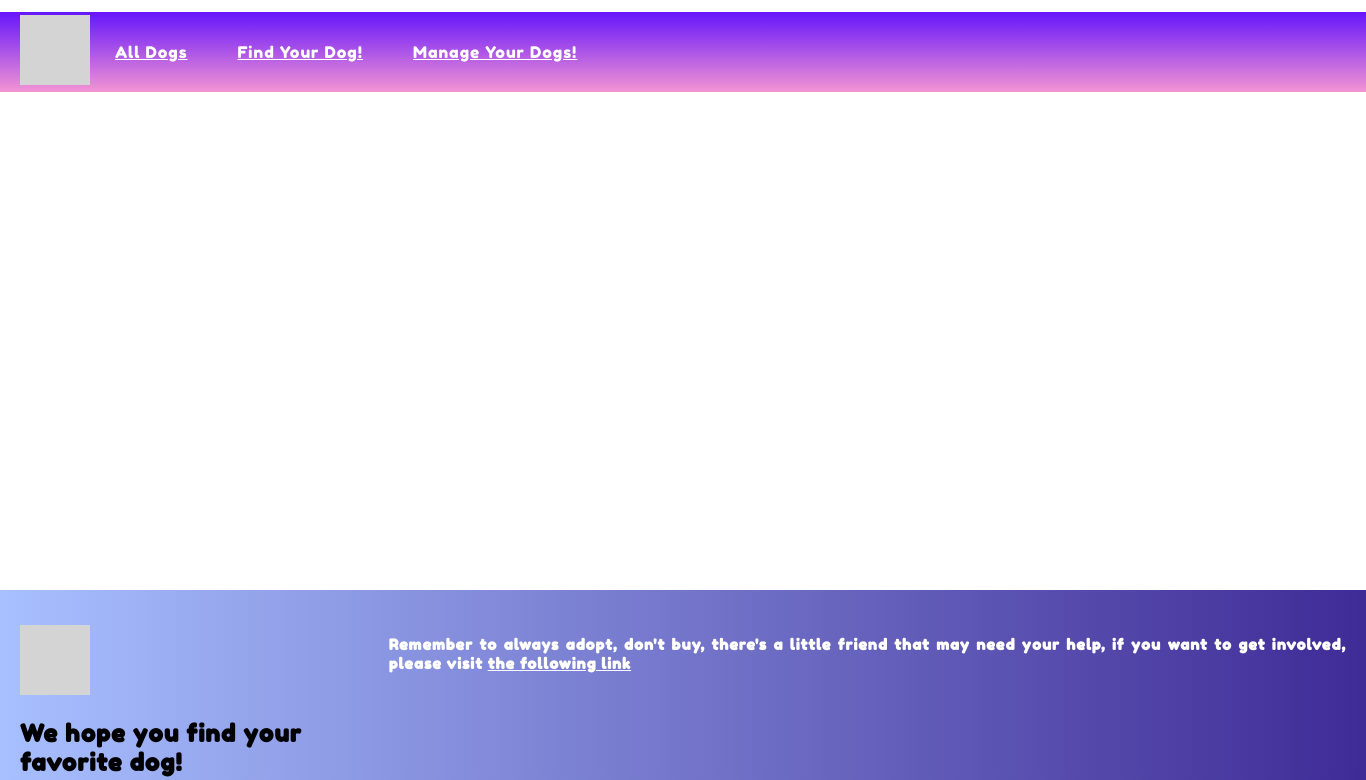
Test: search dogs and saving them should be working › main title should be presente
Click the link "Find Your Dog!".
click(301, 52)  # box [238,42,364,62]
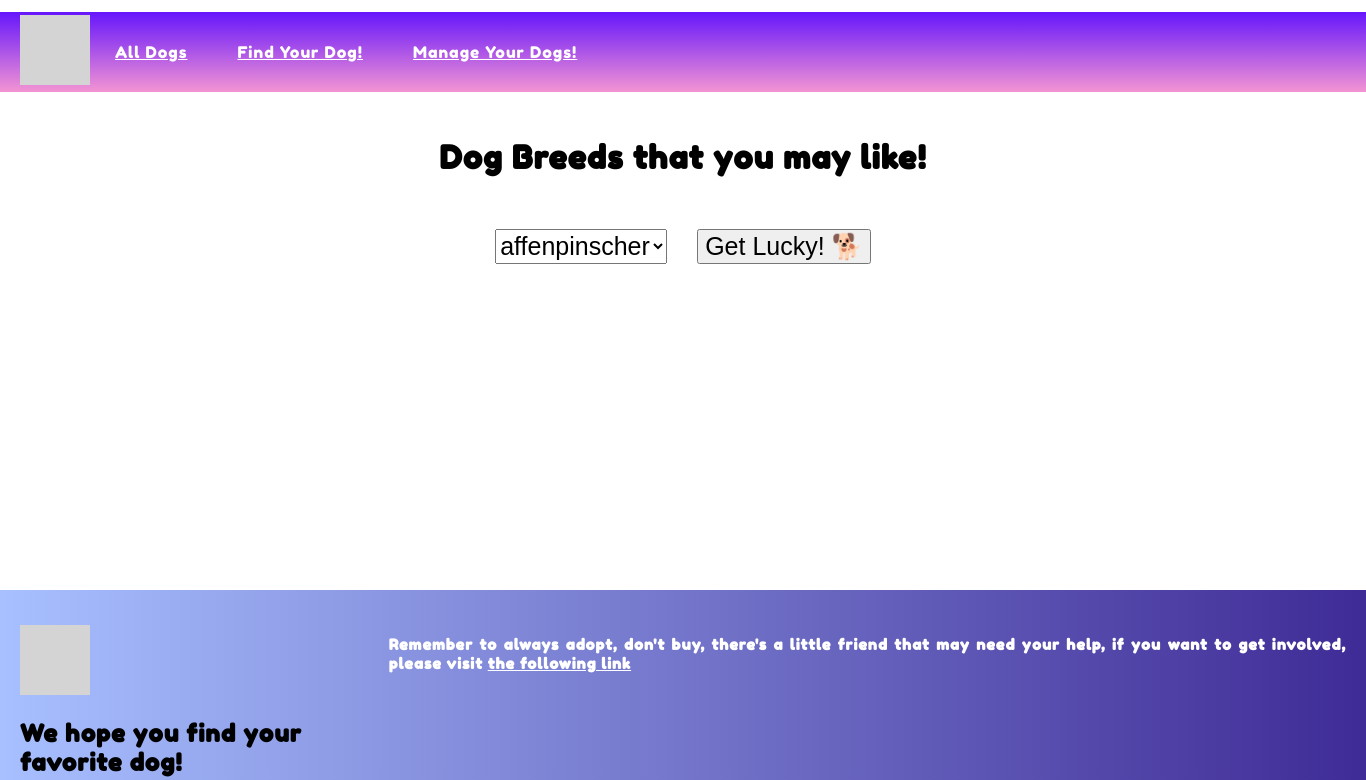
Result: the heading "Dog Breeds that you may like!" is shown at [439,138,927,177]
